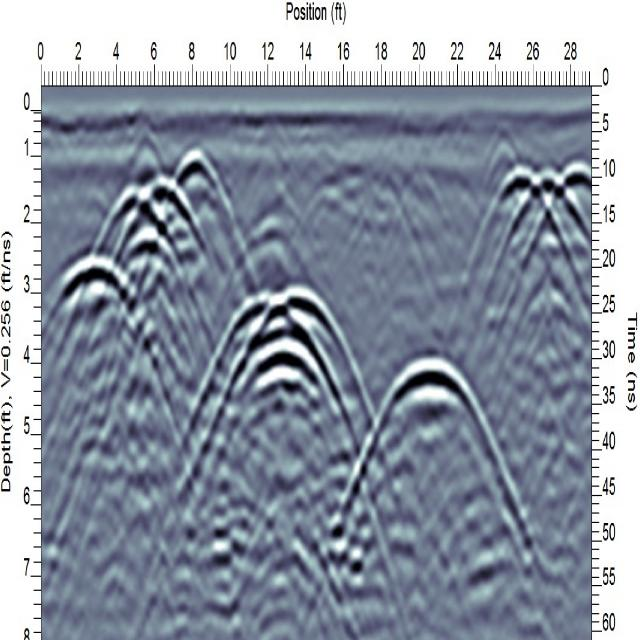hyperbola: (202, 275, 364, 507), (343, 340, 518, 547), (44, 238, 159, 426)
